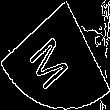M_NE: (31, 21, 79, 89)
